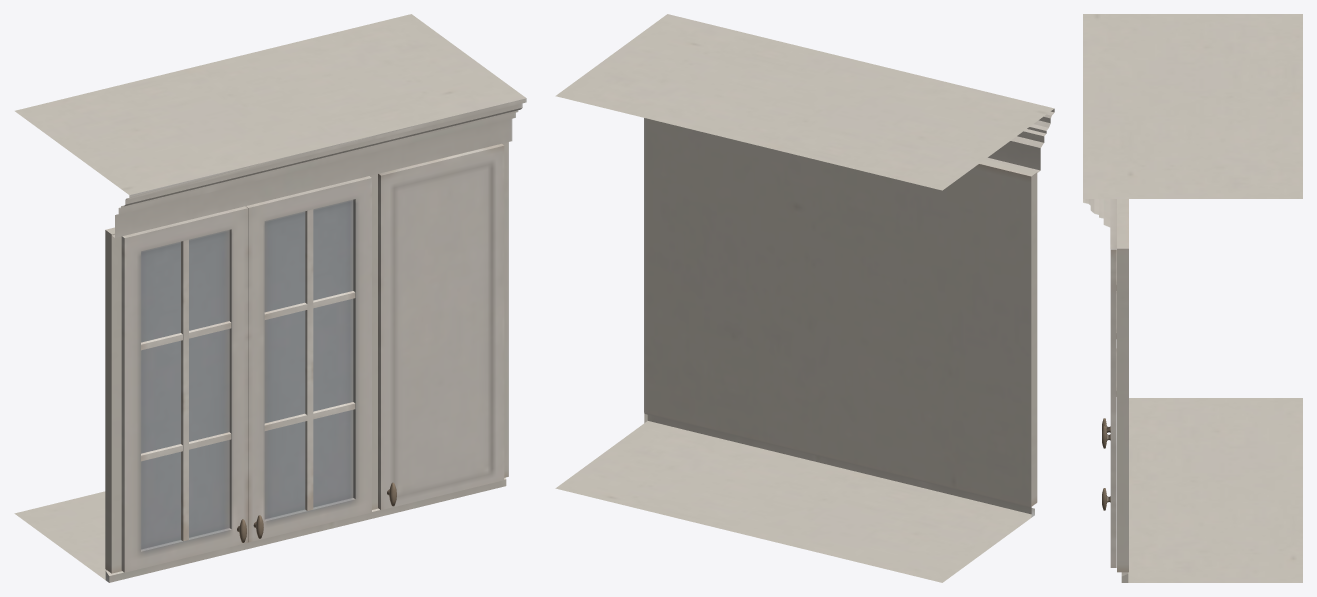
Rendered from KitCabinet_Up_1x_A.FBX.
The picture shows the model from 3 angles, left to right: view 1: azimuth 30°, elevation 25°; view 2: azimuth 150°, elevation 25°; view 3: azimuth 270°, elevation 25°; orthographic projection. The views are drawn at different scales.
Parts seen in each view (by area): view 1: KitCabinet_Up_1x_A; view 2: KitCabinet_Up_1x_A; view 3: KitCabinet_Up_1x_A.
Boxes of the visible parts, left/top/right/bottom form: KitCabinet_Up_1x_A: left=14, top=14, right=526, bottom=582; KitCabinet_Up_1x_A: left=555, top=14, right=1054, bottom=582; KitCabinet_Up_1x_A: left=1083, top=14, right=1302, bottom=582.
Bounding box in the file's own units: 100 × 96.83 × 50.21.
